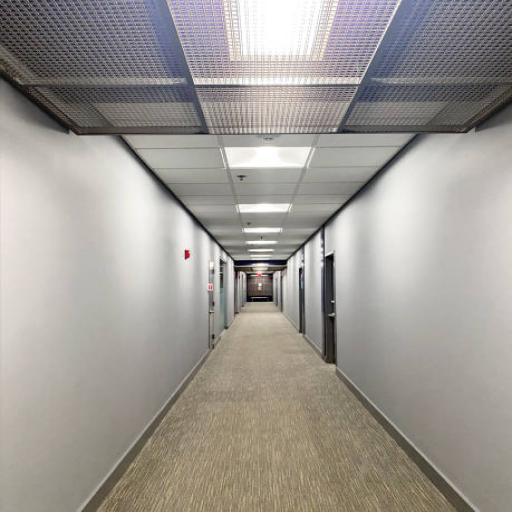child: (0, 102, 512, 512)
